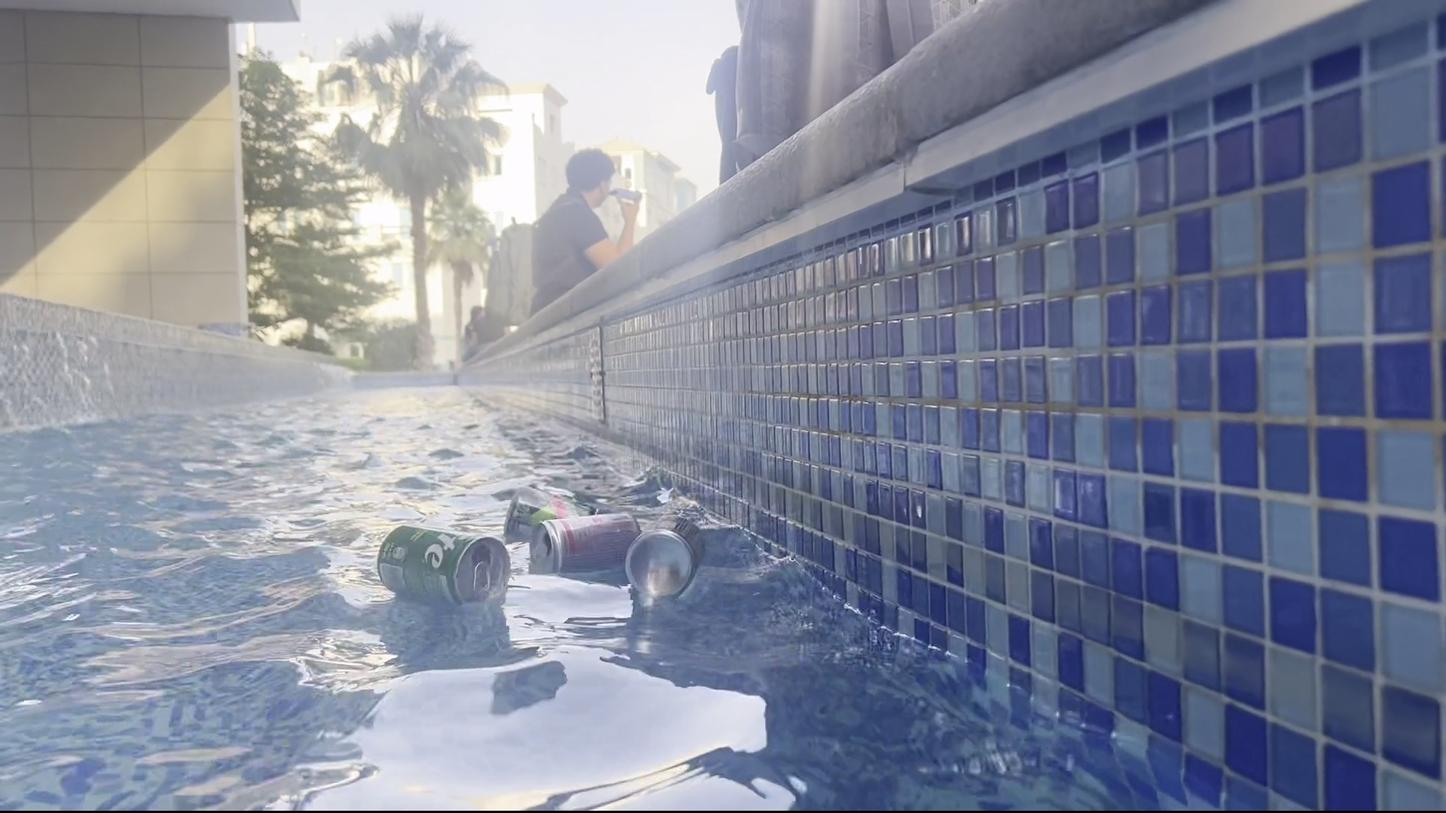debris: (366, 516, 517, 611), (502, 477, 622, 554), (529, 504, 643, 578), (626, 513, 711, 601)
